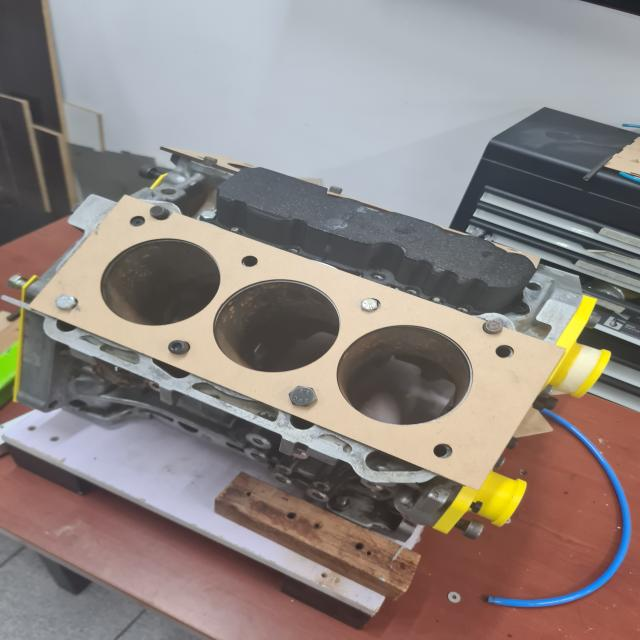vista1: (27, 196, 564, 490)
